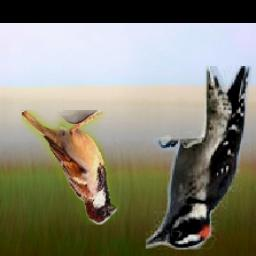Sparrow: (21, 111, 118, 226)
Woodpecker: (146, 66, 251, 250)
